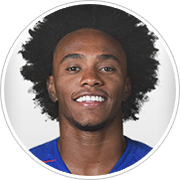face: (43, 48, 132, 121)
